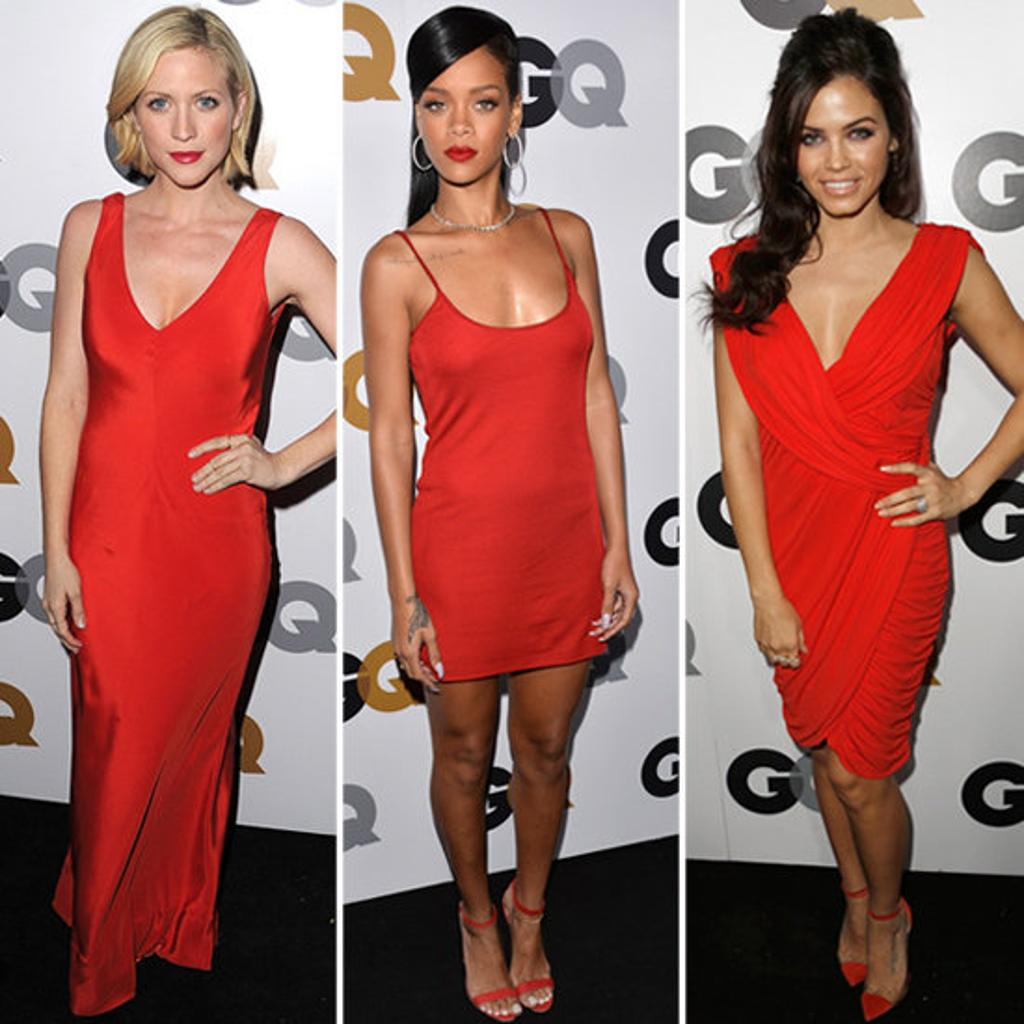face: (786, 74, 890, 216), (136, 46, 230, 188), (418, 42, 508, 184)
